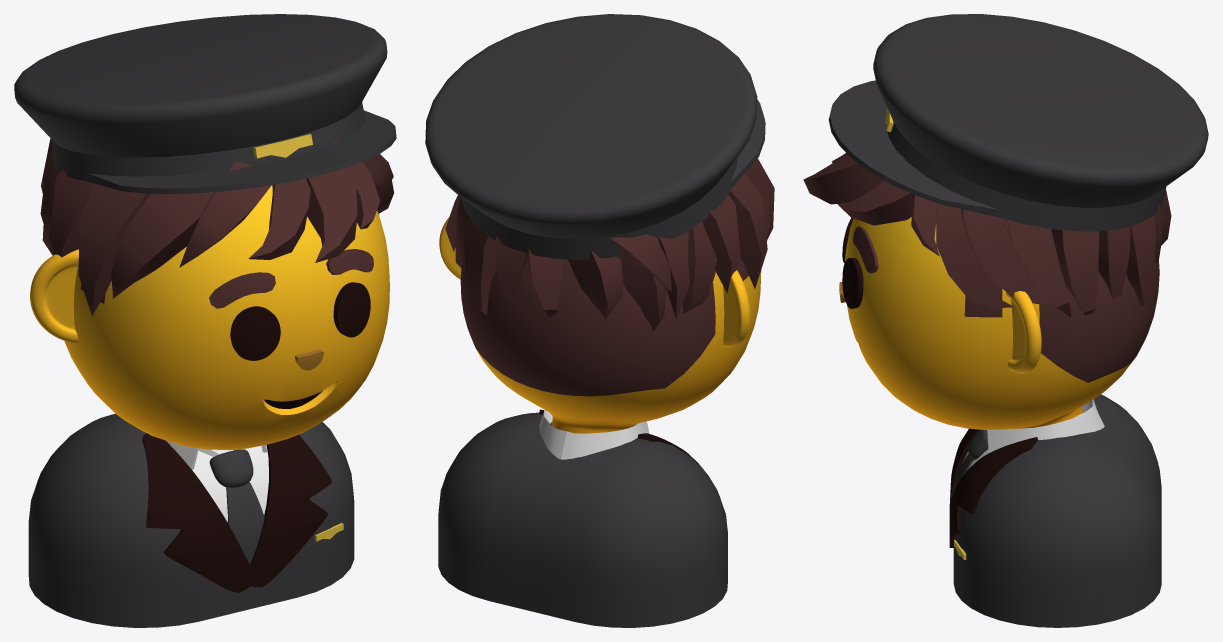
The model's file is Pilot.gltf.
The picture shows the model from 3 angles, left to right: view 1: azimuth 30°, elevation 25°; view 2: azimuth 150°, elevation 25°; view 3: azimuth 270°, elevation 25°; orthographic projection. The views are drawn at different scales.
Visible parts, largest first — view 1: Circle.739, Roundcube.132, Sphere.092, Circle.736, Cube.1627, Cube.1623, Circle.733, Cube.1622, Cylinder.110, Cube.1628, Cube.1616, Cube.1620 (+8 smaller); view 2: Circle.739, Sphere.092, Roundcube.132, Cube.1623, Plane.069, Cube.1613, Cylinder.110, Cube.1609, Cube.1620, Cube.1618, Cube.1621, Cube.1615 (+4 smaller); view 3: Circle.739, Roundcube.132, Sphere.092, Cube.1626, Cube.1614, Circle.736, Cube.1629, Cube.1612, Cube.1622, Cube.1624, Cylinder.110, Plane.069 (+5 smaller).
Part boxes in pixels (x1=…): Circle.739: x1=14, y1=14, x2=396, y2=193; Roundcube.132: x1=64, y1=185, x2=389, y2=450; Sphere.092: x1=28, y1=414, x2=354, y2=627; Circle.736: x1=142, y1=433, x2=331, y2=592; Cube.1627: x1=111, y1=192, x2=214, y2=298; Cube.1623: x1=78, y1=183, x2=150, y2=315; Circle.733: x1=230, y1=282, x2=370, y2=360; Cube.1622: x1=306, y1=141, x2=357, y2=262; Cylinder.110: x1=30, y1=214, x2=379, y2=343; Cube.1628: x1=179, y1=161, x2=271, y2=267; Cube.1616: x1=248, y1=178, x2=310, y2=259; Cube.1620: x1=49, y1=169, x2=94, y2=257; Circle.739: x1=425, y1=14, x2=765, y2=259; Sphere.092: x1=438, y1=412, x2=727, y2=627; Roundcube.132: x1=460, y1=259, x2=761, y2=433; Cube.1623: x1=728, y1=173, x2=767, y2=288; Plane.069: x1=539, y1=410, x2=649, y2=459; Cube.1613: x1=568, y1=250, x2=623, y2=319; Cylinder.110: x1=439, y1=217, x2=750, y2=346; Cube.1609: x1=463, y1=218, x2=495, y2=314; Cube.1620: x1=702, y1=194, x2=740, y2=293; Cube.1618: x1=682, y1=221, x2=717, y2=314; Cube.1621: x1=620, y1=259, x2=666, y2=331; Cube.1615: x1=611, y1=234, x2=671, y2=291; Circle.739: x1=828, y1=14, x2=1208, y2=231; Roundcube.132: x1=845, y1=210, x2=1159, y2=429; Sphere.092: x1=953, y1=394, x2=1161, y2=627; Cube.1626: x1=936, y1=204, x2=1014, y2=308; Cube.1614: x1=968, y1=211, x2=1050, y2=304; Circle.736: x1=949, y1=428, x2=1038, y2=547; Cube.1629: x1=1007, y1=219, x2=1071, y2=317; Cube.1612: x1=1051, y1=229, x2=1099, y2=315; Cube.1622: x1=803, y1=151, x2=899, y2=204; Cube.1624: x1=837, y1=181, x2=913, y2=225; Cylinder.110: x1=1006, y1=291, x2=1041, y2=373; Plane.069: x1=987, y1=399, x2=1104, y2=452.
Size of the model in its own units: 1.63 by 2.47 by 1.8.
7 materials, 1 textured.
